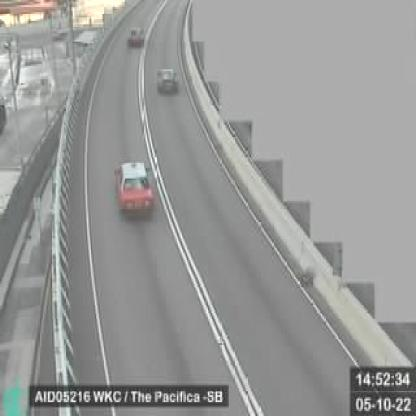Car: (114, 161, 155, 217), (155, 68, 177, 94), (128, 24, 146, 47)
